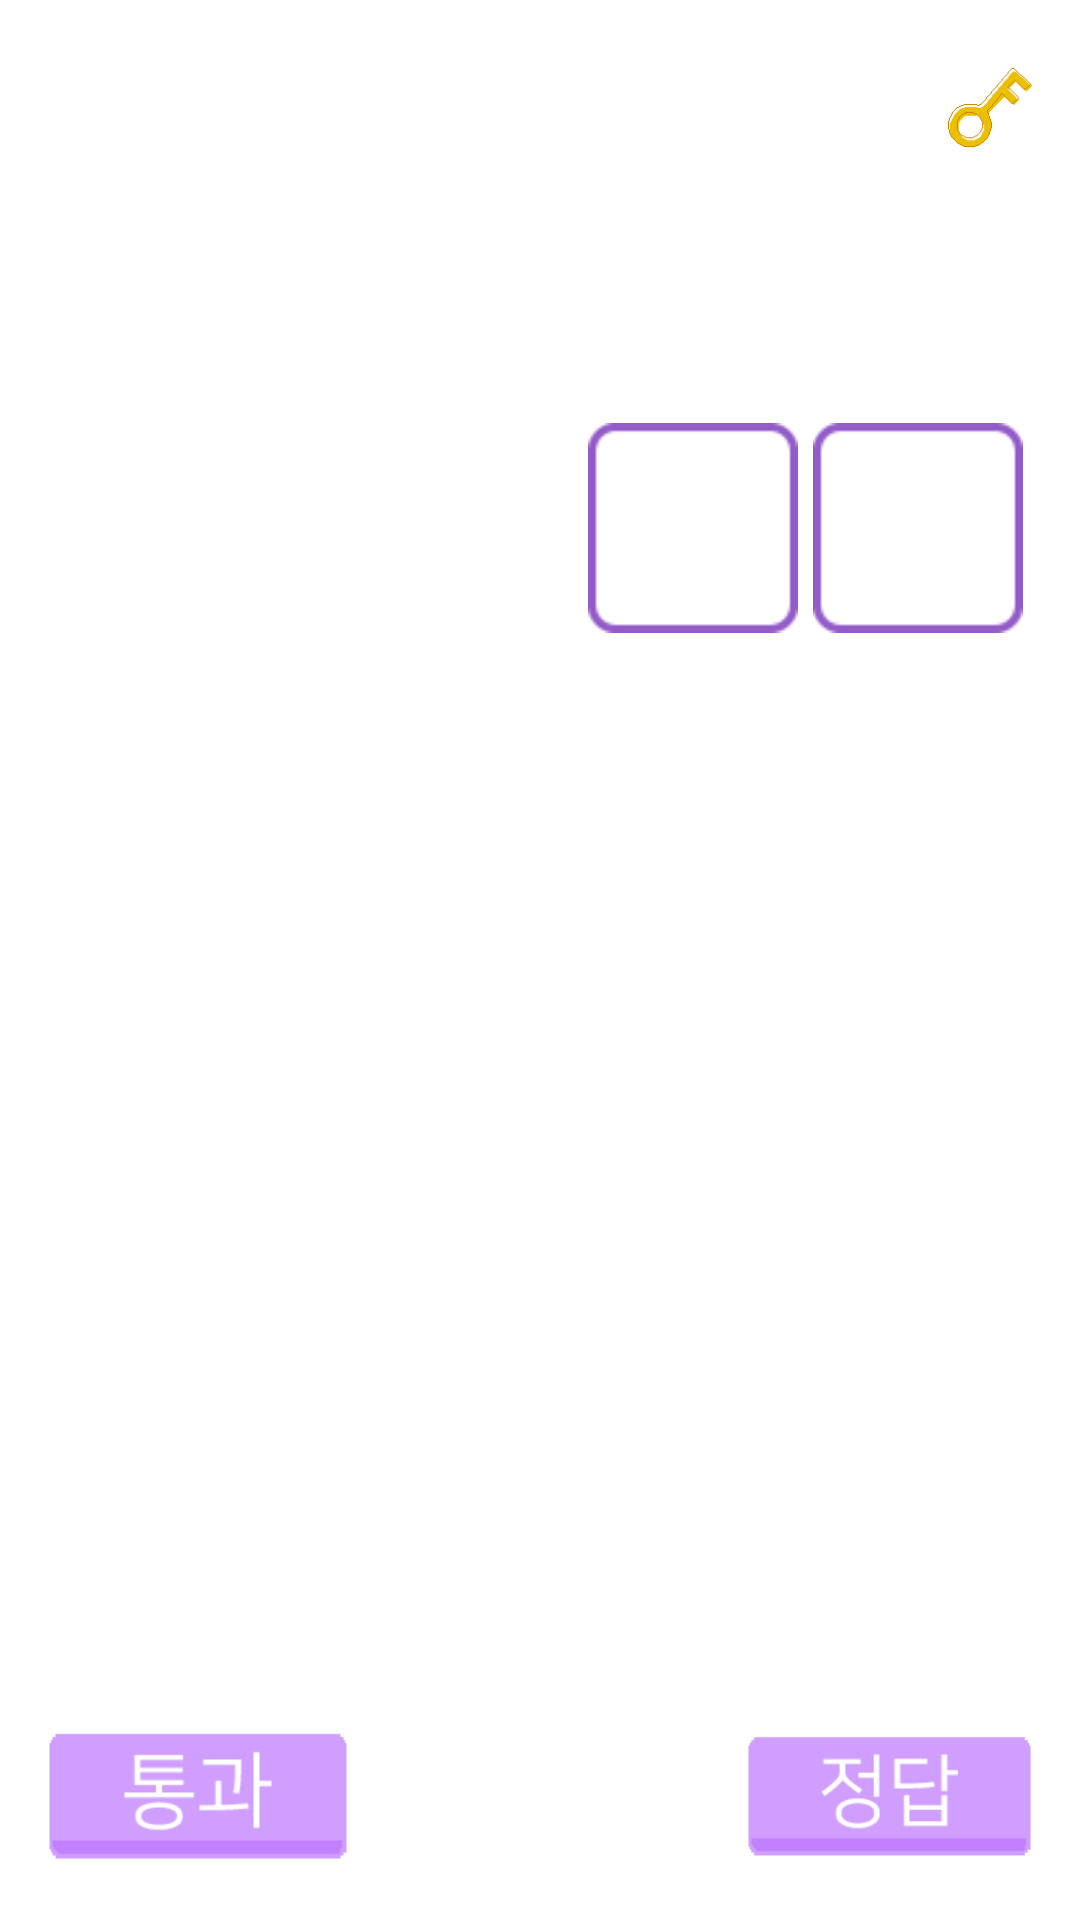

Screen size 1080 x 1920. Icon name, then its center in pixels as (x,y):
key: (990,107)
